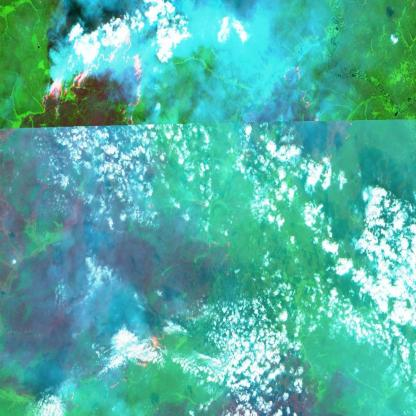fire: (37, 27, 145, 125), (280, 60, 314, 110), (134, 329, 168, 374)
